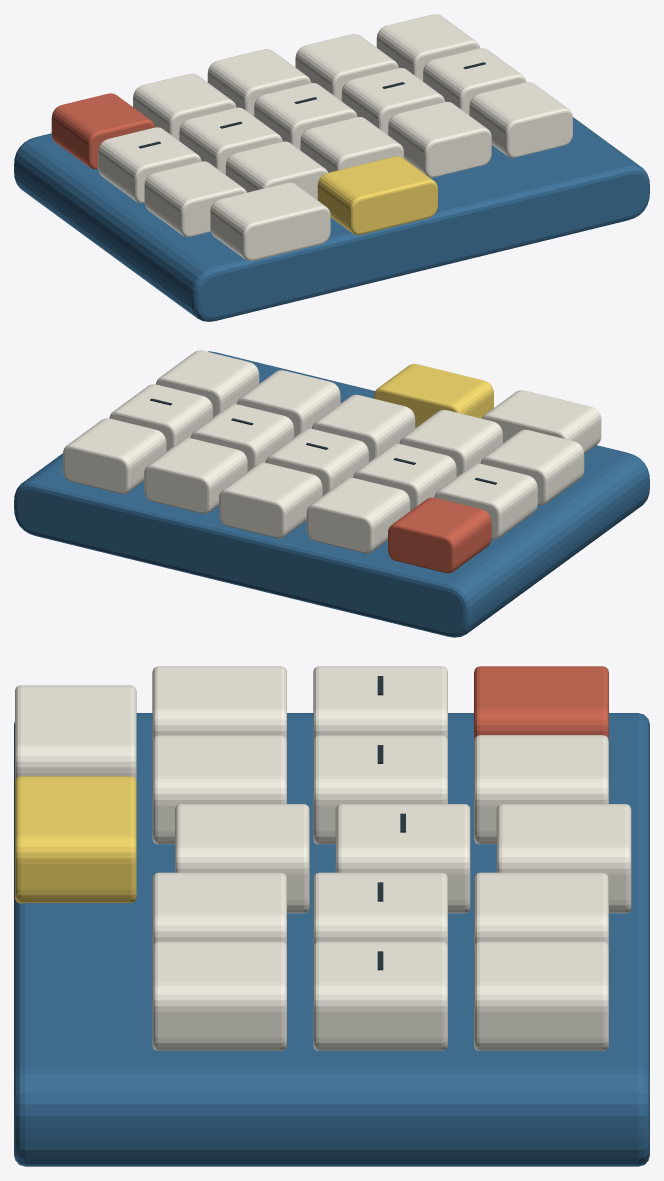
Rendered from keyboard-right.glb.
3 views of the same model, one above another, from view 1: azimuth 30°, elevation 25°; view 2: azimuth 150°, elevation 25°; view 3: azimuth 270°, elevation 25° (orthographic). The views are drawn at different scales.
Parts seen in each view (by area): view 1: keyboard-right; view 2: keyboard-right; view 3: keyboard-right.
Part boxes in pixels (x1,y1,x2,y2): keyboard-right: (14,14,649,321); keyboard-right: (14,350,649,637); keyboard-right: (14,666,649,1166).
Size of the model in its own units: 0.49 by 0.094 by 0.34.
